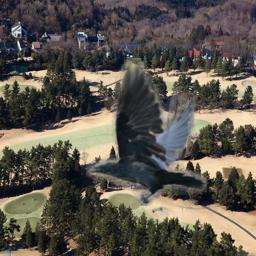Crow: (86, 58, 207, 206)
